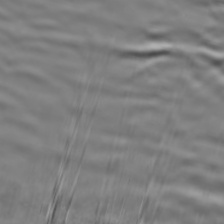cavities: (57, 31, 170, 171)
